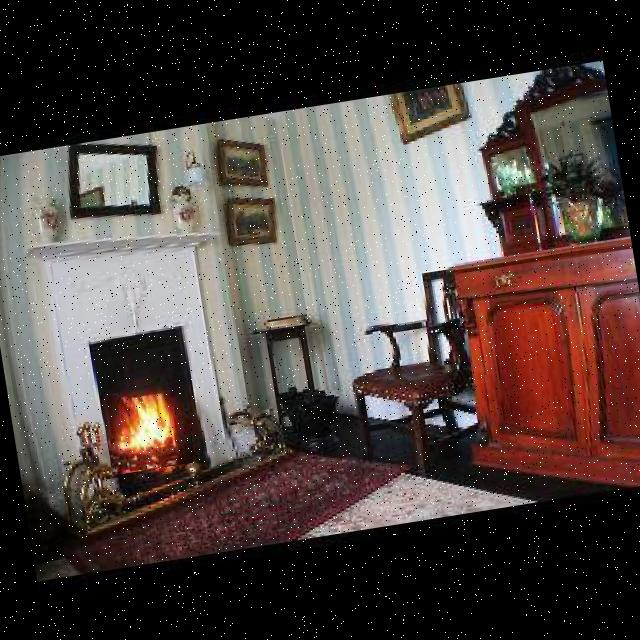fire: (100, 382, 196, 476)
